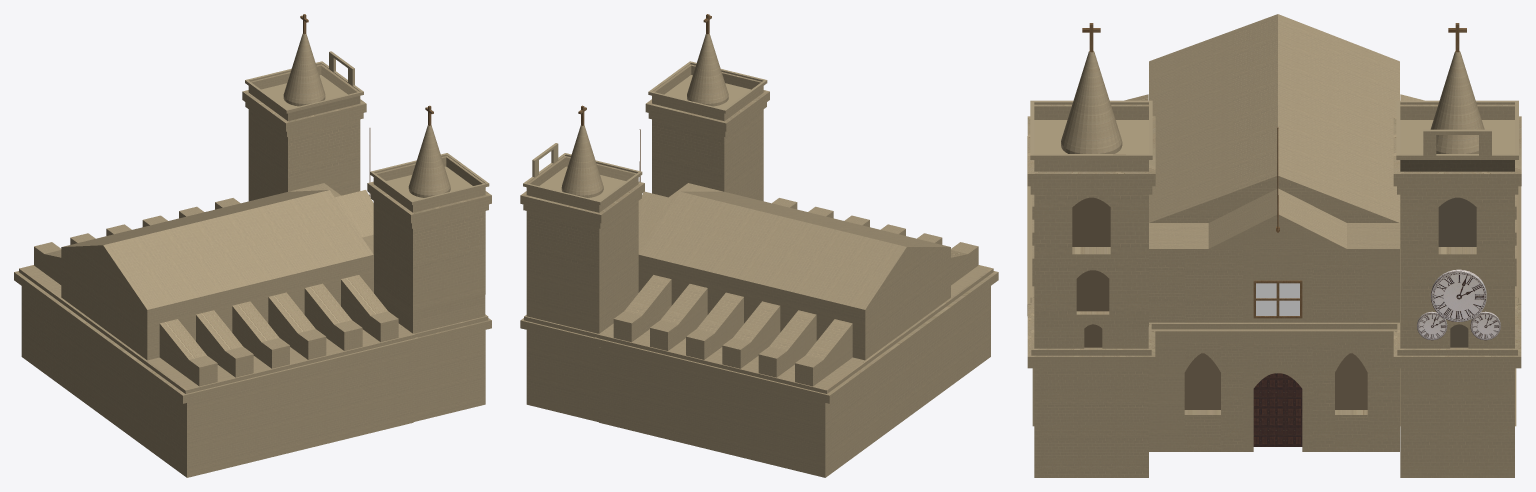
File: John_Co_Cathedral.glb
The picture shows the model from 3 angles, left to right: view 1: azimuth 30°, elevation 25°; view 2: azimuth 150°, elevation 25°; view 3: azimuth 270°, elevation 25°; orthographic projection. The views are drawn at different scales.
Visible parts, largest first — view 1: ChurchMainBody, BellTower.L.001, Cube.001, BellTower.L, BellTowerCone.L, BellTowerCone.L.001, Cube; view 2: ChurchMainBody, BellTower.L, Cube, BellTower.L.001, BellTowerCone.L, BellTowerCone.L.001, Cube.001; view 3: ChurchMainBody, BellTower.L.001, BellTower.L, BellTowerCone.L.001, BellTowerCone.L, BigWatch, SmallWatches.
Part boxes in pixels (x1,y1,x2,y2): ChurchMainBody: (14, 183, 418, 477); BellTower.L.001: (367, 153, 491, 421); Cube.001: (159, 275, 398, 386); BellTower.L: (242, 51, 366, 201); BellTowerCone.L: (283, 33, 325, 106); BellTowerCone.L.001: (408, 125, 450, 197); Cube: (34, 198, 240, 284); ChurchMainBody: (594, 183, 998, 477); BellTower.L: (520, 143, 644, 422); Cube: (613, 275, 852, 386); BellTower.L.001: (645, 61, 769, 201); BellTowerCone.L: (561, 125, 603, 197); BellTowerCone.L.001: (687, 33, 728, 106); Cube.001: (772, 198, 978, 285); ChurchMainBody: (1027, 14, 1521, 451); BellTower.L.001: (1027, 100, 1155, 477); BellTower.L: (1393, 100, 1521, 477); BellTowerCone.L.001: (1061, 51, 1122, 153); BellTowerCone.L: (1430, 51, 1484, 153); BigWatch: (1431, 269, 1486, 321); SmallWatches: (1417, 311, 1500, 340).
Bounding box in the file's own units: 17.06 × 15.44 × 16.15.
18 materials, 14 textured.
